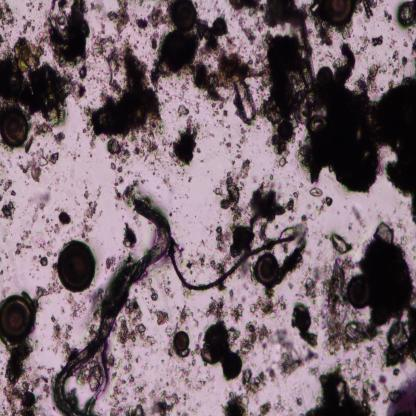Background material: (255, 32, 416, 219), (86, 36, 161, 132), (0, 38, 73, 132), (215, 155, 283, 251), (358, 220, 416, 325), (0, 342, 52, 415), (306, 363, 376, 415), (196, 20, 239, 104), (48, 0, 90, 68), (106, 347, 146, 414), (322, 307, 378, 353), (266, 325, 305, 389), (381, 305, 416, 371), (164, 115, 203, 170), (114, 298, 155, 348), (200, 318, 242, 365), (322, 256, 351, 313), (103, 133, 131, 189), (176, 249, 226, 279), (262, 1, 306, 34), (79, 180, 102, 240), (292, 299, 319, 348), (50, 318, 77, 361), (172, 362, 206, 394), (18, 147, 49, 182), (241, 320, 270, 356), (356, 61, 388, 92), (130, 130, 159, 163), (136, 7, 171, 34), (248, 292, 287, 316), (107, 0, 133, 35), (32, 204, 60, 235), (87, 290, 104, 340), (148, 389, 178, 415), (33, 279, 65, 303), (227, 0, 265, 20), (243, 363, 266, 396), (76, 363, 102, 392), (222, 388, 249, 415), (63, 291, 88, 319), (202, 295, 229, 319), (317, 26, 336, 60), (160, 82, 188, 105), (174, 302, 197, 330), (30, 184, 54, 210), (237, 21, 261, 46), (396, 0, 416, 29), (13, 229, 34, 256), (388, 50, 410, 75), (357, 32, 383, 53), (121, 219, 138, 250), (329, 232, 353, 253), (126, 170, 148, 191), (0, 1, 16, 29), (304, 277, 320, 304), (213, 104, 235, 123), (270, 392, 288, 414), (72, 80, 89, 102), (159, 173, 178, 192), (153, 310, 171, 330), (358, 0, 378, 18), (288, 389, 305, 410), (0, 178, 17, 198), (0, 202, 17, 220), (30, 253, 51, 267), (19, 19, 36, 36), (236, 126, 245, 158), (101, 253, 117, 271), (57, 208, 72, 227), (146, 278, 158, 300), (350, 203, 362, 224), (89, 133, 99, 158), (256, 400, 271, 415), (176, 103, 191, 118), (219, 136, 233, 150), (65, 148, 80, 160), (77, 65, 88, 81), (24, 134, 33, 153), (310, 187, 323, 199), (114, 187, 122, 206), (284, 197, 294, 212), (324, 195, 334, 208), (48, 152, 58, 165), (54, 133, 65, 144), (383, 12, 393, 24), (26, 1, 36, 12), (186, 175, 194, 186), (76, 130, 82, 144), (37, 2, 43, 12), (0, 270, 4, 278)
Cellulose filter fibre: (54, 200, 173, 413)
Diatom: (57, 240, 96, 293), (0, 293, 33, 343), (161, 35, 197, 76), (0, 110, 29, 150), (232, 78, 258, 122), (318, 0, 355, 27), (348, 276, 372, 310), (172, 1, 198, 32), (255, 254, 280, 286), (298, 54, 318, 90), (221, 352, 244, 378), (316, 64, 334, 90), (172, 330, 190, 352), (309, 114, 328, 131), (214, 18, 227, 36)
Pen: (385, 369, 416, 415)
